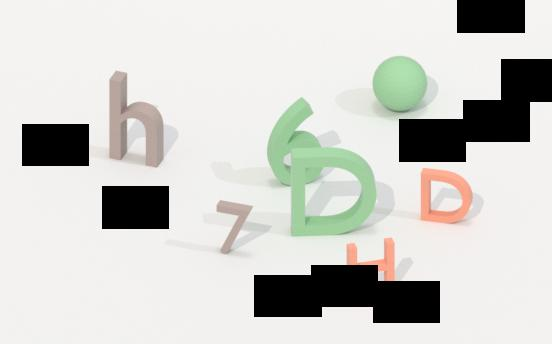6: (264, 94, 324, 187)
7: (214, 198, 255, 255)
H-hoa: (340, 227, 400, 299)
cau: (373, 54, 429, 115)
d: (286, 145, 380, 243), (418, 161, 477, 229)
h: (102, 62, 169, 171)
